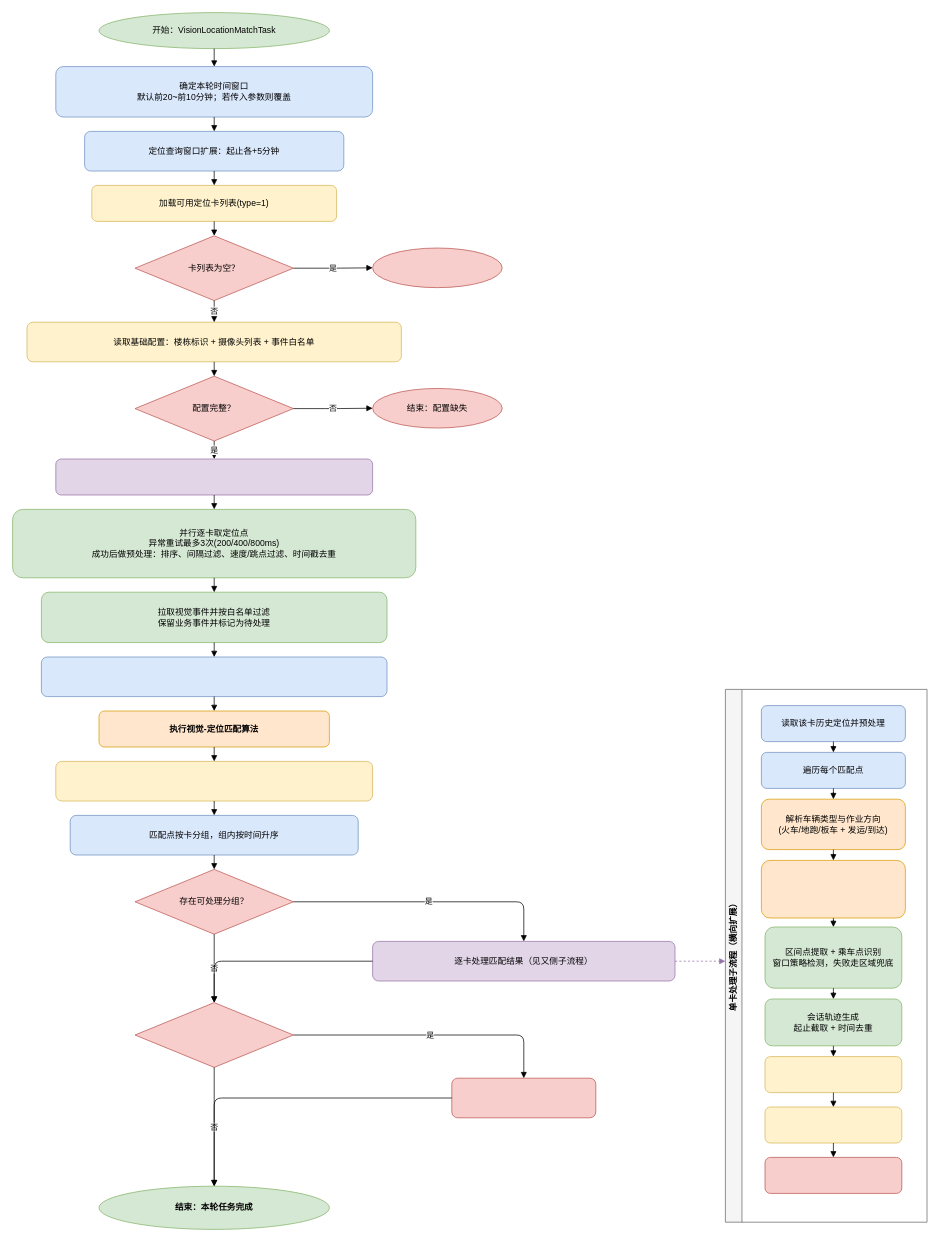
Image size: 940x1242. Some labels were removed from this diagram. Each missing label, with the box of its shape:
当前时间=凌晨3点？: (134, 1002, 293, 1067)
推送业务事件与轨迹: (764, 1106, 902, 1143)
新数据并入历史缓存：定位(按卡) + 视觉(按事件): (41, 656, 387, 697)
更新状态：推送状态 + 视觉处理标记: (764, 1157, 902, 1193)
清理历史缓存（每日一次）: (451, 1077, 596, 1118)
结束：无可处理卡: (372, 247, 502, 288)
统计输出：匹配组、历史池规模、车辆类型分布: (55, 761, 373, 801)
若定位源为zq：预热访问令牌: (55, 458, 373, 495)
落库：主记录 + 轨迹明细: (764, 1056, 902, 1093)
计算时间区间 发运向前找起点；到达向后找终点: (761, 860, 905, 918)
